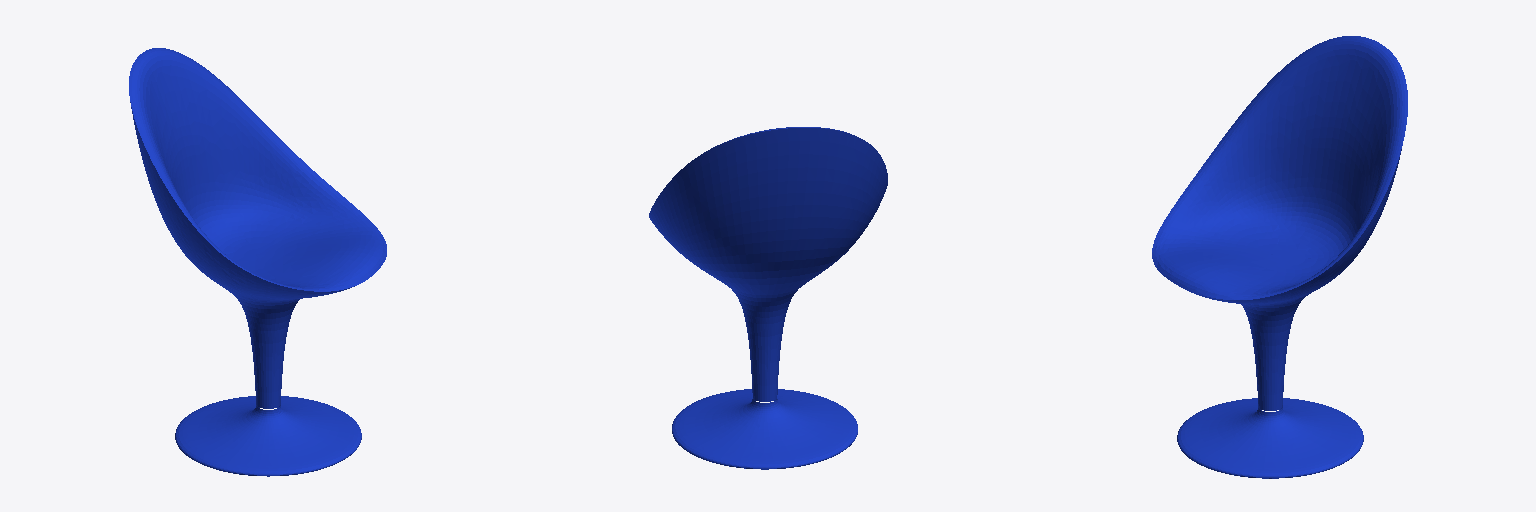
The model's file is chair1.obj.
3 renders of one model, left to right at view 1: azimuth 30°, elevation 25°; view 2: azimuth 150°, elevation 25°; view 3: azimuth 270°, elevation 25°, orthographic.
Visible parts, largest first — view 1: Chair_02.003; view 2: Chair_02.003; view 3: Chair_02.003.
Part boxes in pixels (x1,y1,x2,y2): Chair_02.003: (129,48,386,476); Chair_02.003: (649,127,887,469); Chair_02.003: (1152,36,1407,478).
Bounding box in the file's own units: 0.4059 × 0.639 × 0.412.